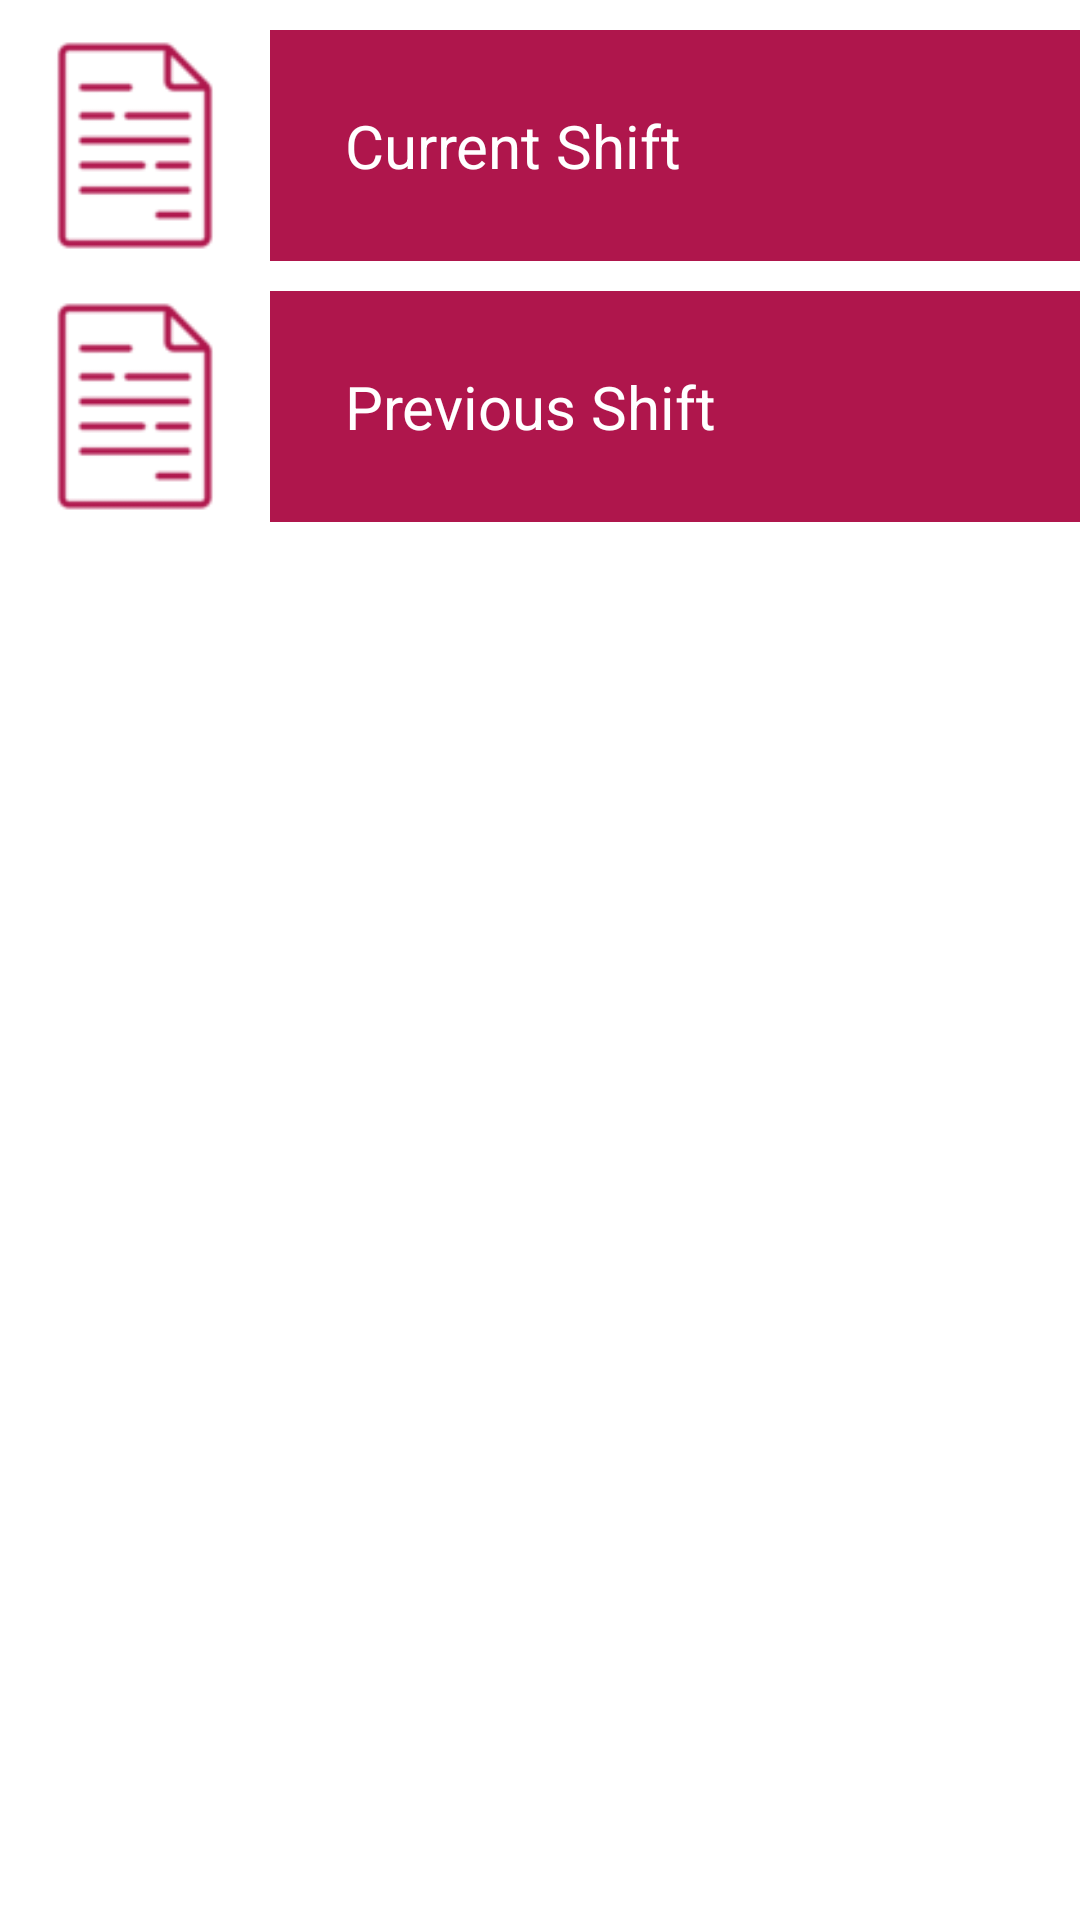

Point at icon controls on the screen. Image size 1080*1920, points as (x=x, y=y).
file: (x=135, y=145), (x=135, y=406)
